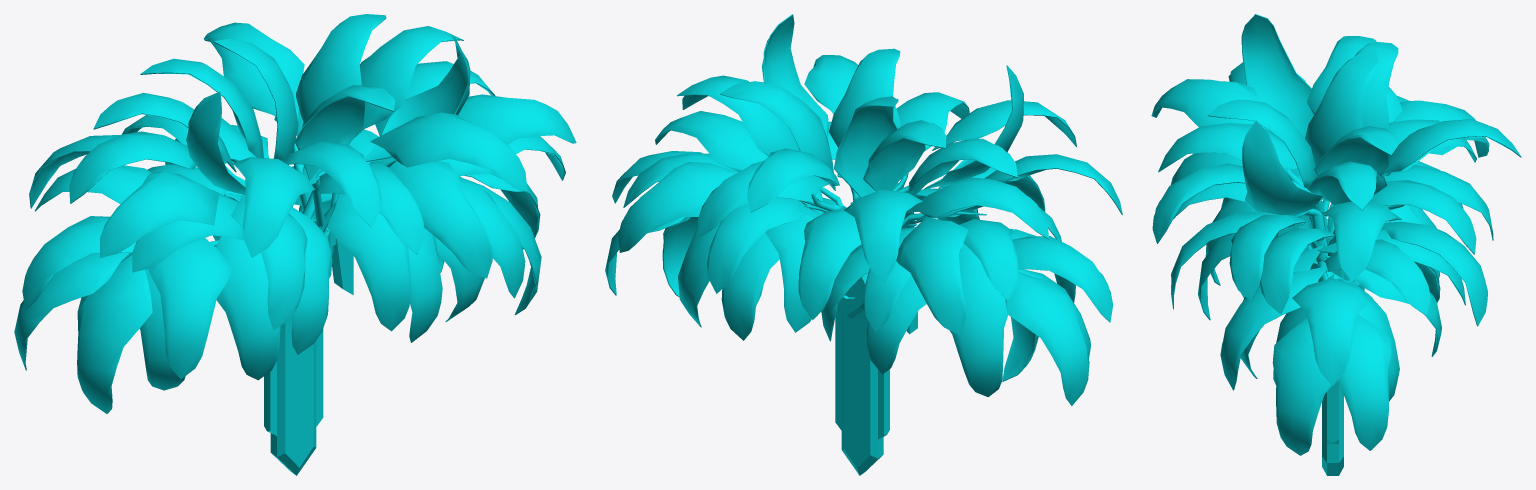
The model's file is FloatingPlantSmall.fbx.
3 views of the same model, side by side, from view 1: azimuth 30°, elevation 25°; view 2: azimuth 150°, elevation 25°; view 3: azimuth 270°, elevation 25° (orthographic). The views are drawn at different scales.
Visible parts, largest first — view 1: Leaves, Holder, Branches; view 2: Leaves, Holder, Branches; view 3: Leaves, Holder, Branches.
Part boxes in pixels (bbox=[...]): Leaves: bbox=[14, 14, 576, 413]; Holder: bbox=[264, 219, 353, 475]; Branches: bbox=[210, 138, 395, 246]; Leaves: bbox=[605, 14, 1122, 405]; Holder: bbox=[835, 248, 917, 475]; Branches: bbox=[799, 173, 986, 248]; Leaves: bbox=[1151, 14, 1521, 455]; Holder: bbox=[1302, 219, 1364, 475]; Branches: bbox=[1285, 170, 1404, 280].
Bounding box in the file's own units: 71.6 × 56.09 × 45.94.
